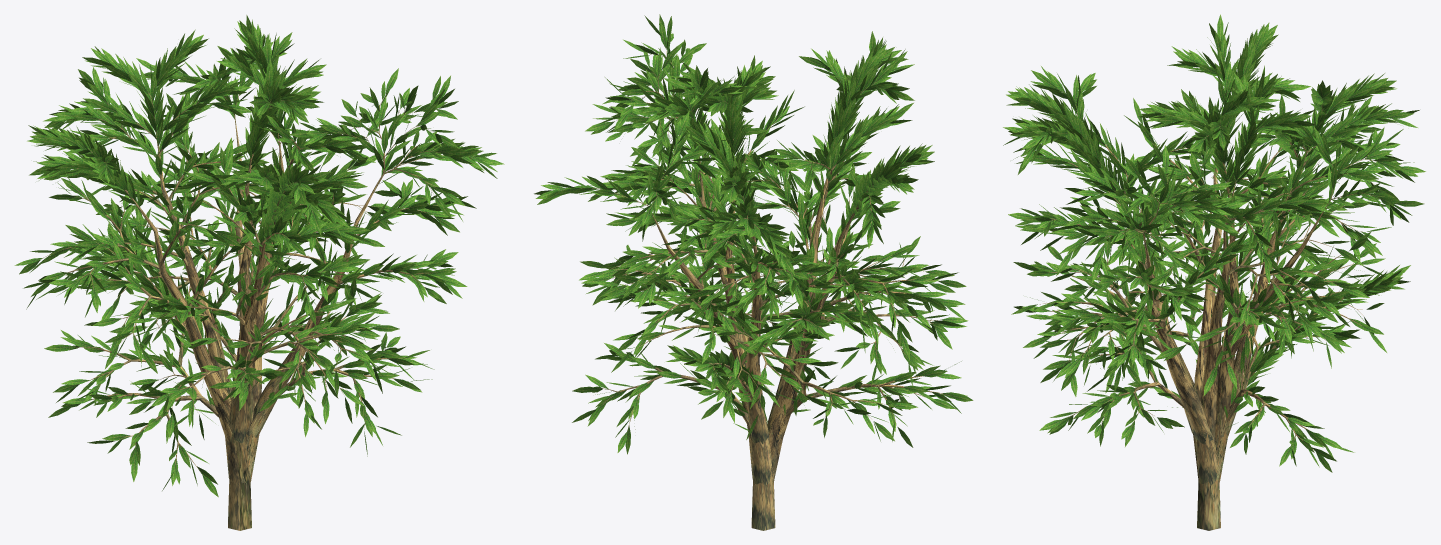
Rendered from ArvoreG.fbx.
3 renders of one model, left to right at view 1: azimuth 30°, elevation 25°; view 2: azimuth 150°, elevation 25°; view 3: azimuth 270°, elevation 25°, orthographic.
Parts seen in each view (by area): view 1: leaves, tree; view 2: leaves, tree; view 3: leaves, tree.
Boxes of the visible parts, x1,y1,x2,y2 form: leaves: [14, 15, 504, 497]; tree: [41, 59, 473, 530]; leaves: [534, 14, 973, 454]; tree: [562, 51, 948, 530]; leaves: [1003, 14, 1425, 472]; tree: [1039, 89, 1379, 530].
Size of the model in its own units: 1836 by 2079 by 1686.
